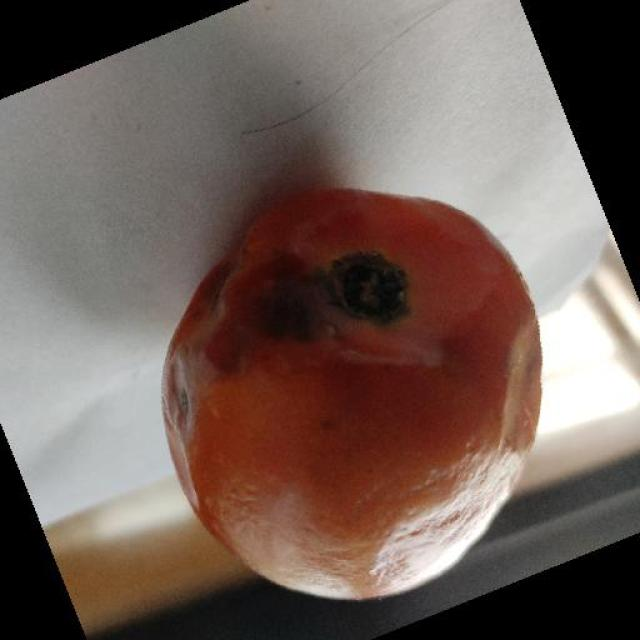Stale_tomato: (139, 136, 536, 545)
